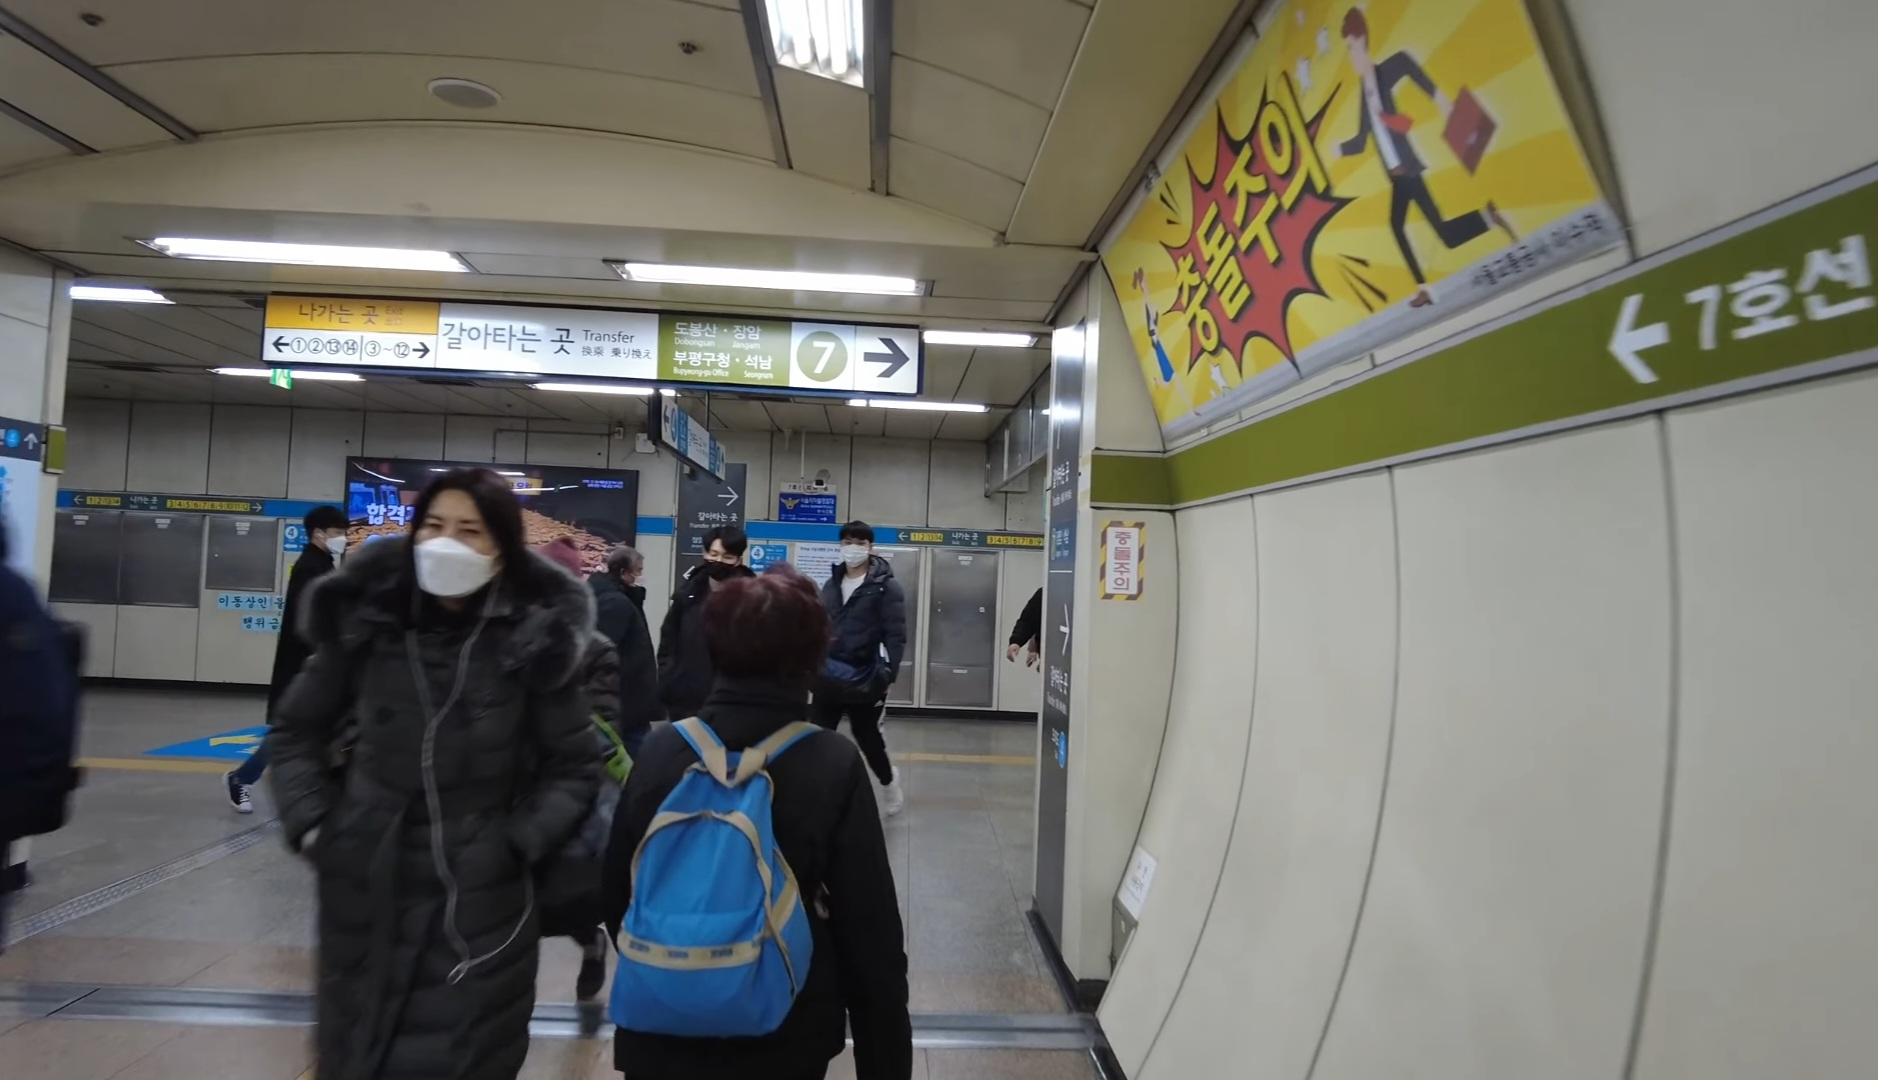signBoard: (249, 280, 927, 405)
